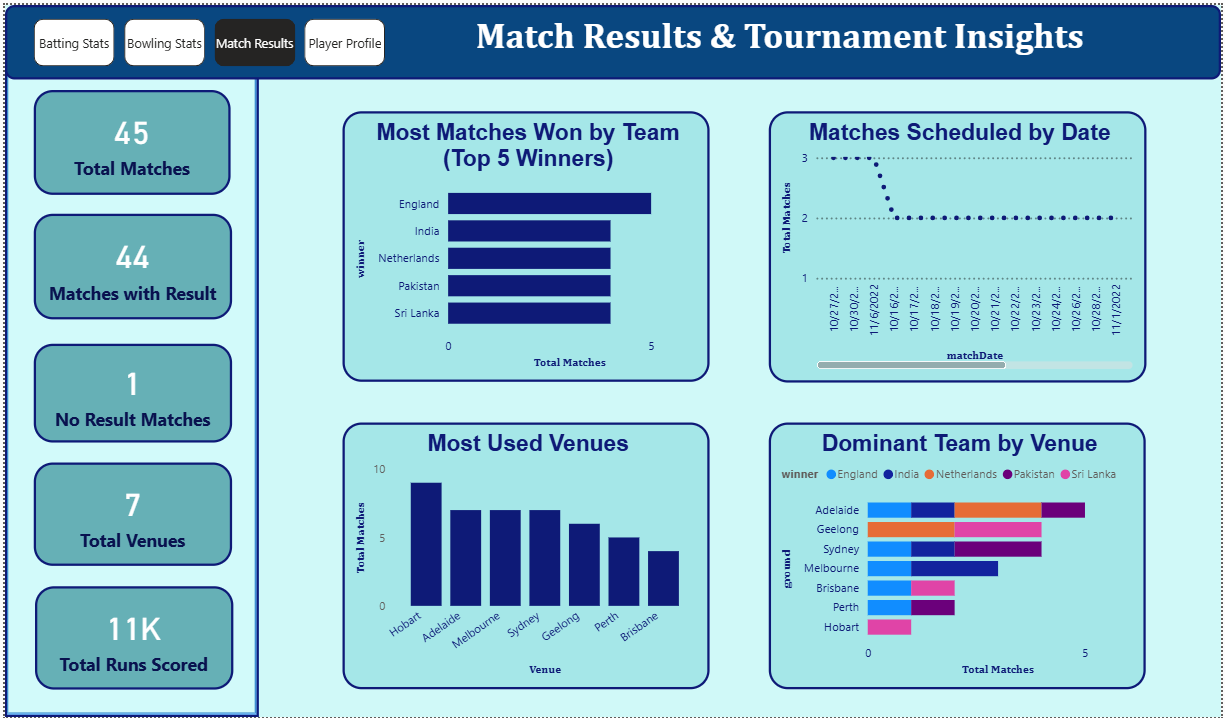

This screenshot's page, from the dashboard's own definition file:
{"tool":"powerbi","page":{"name":"Match Results ","canvas":[1280,750],"ordinal":2},"visuals":[{"type":"shape","box":[0,63.8,267.5,686.2],"z":0},{"type":"card","fields":{"Values":["Match_Results.Total Venues"]},"box":[30,481.2,208.8,108.8],"z":1000},{"type":"card","fields":{"Values":["Match_Results.Matches with Result"]},"box":[30,220,208.8,111.2],"z":2000},{"type":"card","fields":{"Values":["Match_Results.No Result Matches"]},"box":[30,356.2,208.8,103.8],"z":3000},{"type":"card","fields":{"Values":["Batting_Summary.Total Matches"]},"box":[30,90,207.5,110],"z":4000},{"type":"card","fields":{"Values":["Batting_Summary.Total Runs Scored"]},"box":[31.2,611.2,208.8,108.8],"z":5000},{"type":"textbox","box":[0,0,1280,78.8],"z":6000},{"type":"clusteredBarChart","title":"Most Matches Won by Team (Top 5 Winners)","fields":{"Category":["Match_Results.winner"],"Y":["Match_Results.Matches Won"]},"box":[355,112,386,285],"z":7000},{"type":"columnChart","title":"Most Used Venues","fields":{"Category":["Match_Results.ground"],"Y":["Batting_Summary.Total Matches"]},"box":[355,439,386,281],"z":8000},{"type":"lineChart","title":"Matches Scheduled by Date","fields":{"Category":["Match_Results.matchDate"],"Y":["Batting_Summary.Total Matches"]},"box":[803.9,111.7,397.4,285.7],"z":9000},{"type":"pageNavigator","box":[30,14,372,50],"z":10000},{"type":"barChart","title":" Dominant Team by Venue","fields":{"Category":["Match_Results.ground"],"Series":["Match_Results.winner"],"Y":["Batting_Summary.Total Matches"]},"box":[804,439,397,281],"z":11000}]}

Visuals, with their boxes in screenshot pixels (x1, y1, x2, y2), scaled from the page's 1280x750 canvas onto the 1225x718 screenshot:
shape: box=[0, 61, 256, 717]
card - Match_Results.Total Venues: box=[29, 461, 229, 565]
card - Match_Results.Matches with Result: box=[29, 211, 229, 317]
card - Match_Results.No Result Matches: box=[29, 341, 229, 440]
card - Batting_Summary.Total Matches: box=[29, 86, 227, 191]
card - Batting_Summary.Total Runs Scored: box=[30, 585, 230, 689]
textbox: box=[0, 0, 1224, 75]
"Most Matches Won by Team (Top 5 Winners)" clusteredBarChart: box=[340, 107, 709, 380]
"Most Used Venues" columnChart: box=[340, 420, 709, 689]
"Matches Scheduled by Date" lineChart: box=[769, 107, 1150, 380]
pageNavigator: box=[29, 13, 385, 61]
" Dominant Team by Venue" barChart: box=[769, 420, 1149, 689]
